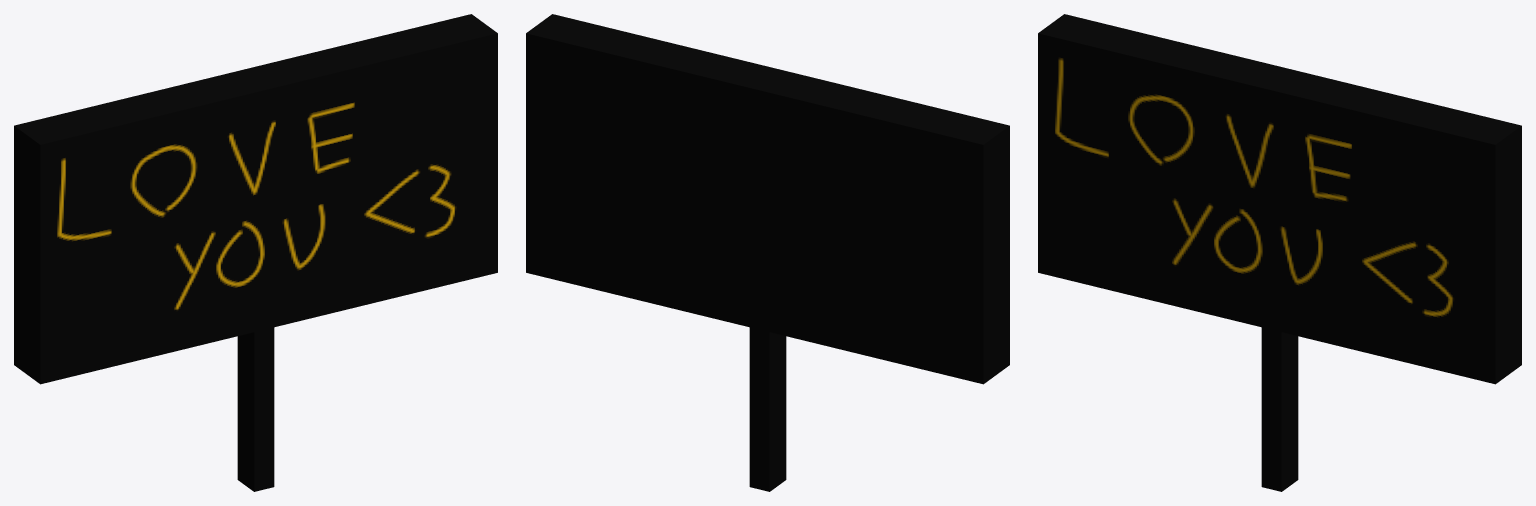
The model's file is sign1.glb.
The picture shows the model from 3 angles, left to right: view 1: azimuth 30°, elevation 25°; view 2: azimuth 150°, elevation 25°; view 3: azimuth 330°, elevation 25°; orthographic projection.
Visible parts, largest first — view 1: Plane; view 2: Plane; view 3: Plane.
Boxes of the visible parts, x1,y1,x2,y2 form: Plane: (14, 14, 497, 491); Plane: (526, 14, 1009, 491); Plane: (1038, 14, 1521, 491).
Bounding box in the file's own units: 2 × 1.69 × 0.2.
Materials: 1 (1 with a texture image).
